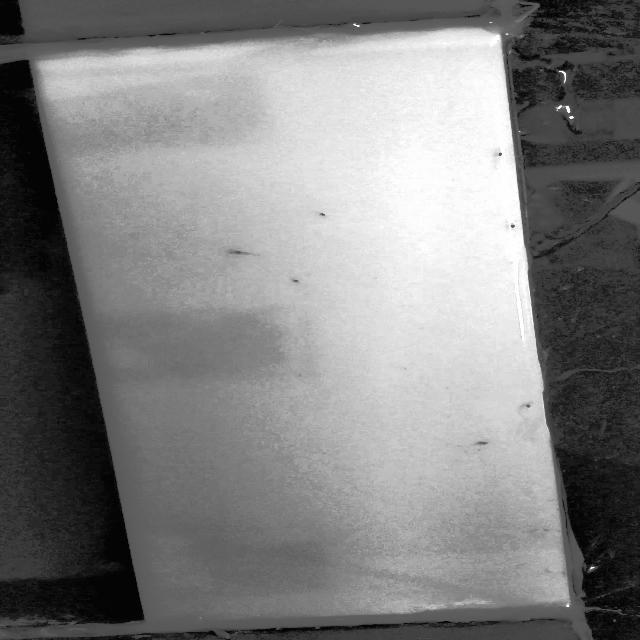shrimp: (226, 248, 273, 258), (515, 398, 534, 416), (467, 436, 494, 448), (314, 211, 339, 222), (283, 276, 306, 287), (494, 222, 520, 230), (487, 148, 507, 158)
